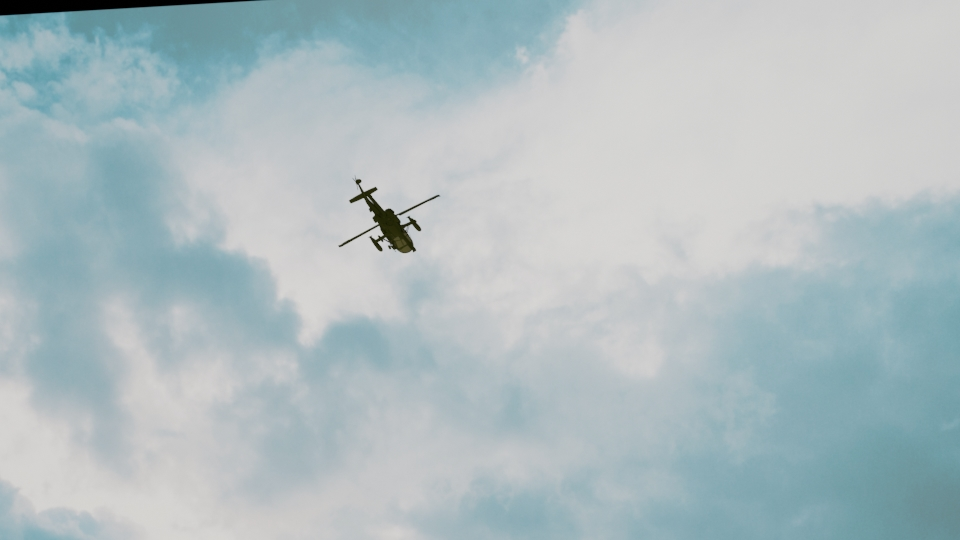heli: (337, 176, 439, 258)
